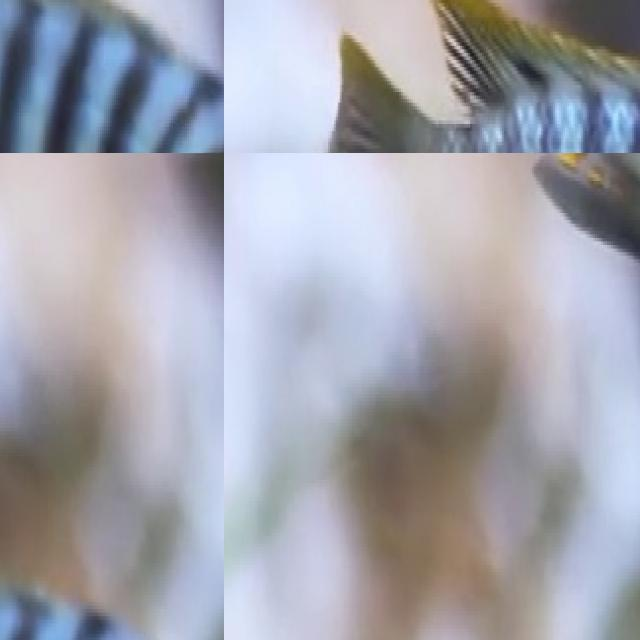fish: (247, 0, 640, 153), (0, 0, 224, 153)
